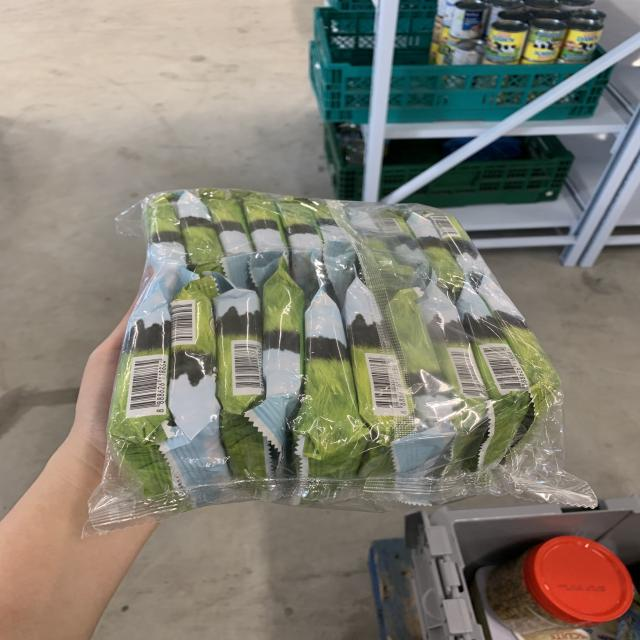object_name: (123, 193, 543, 504)
